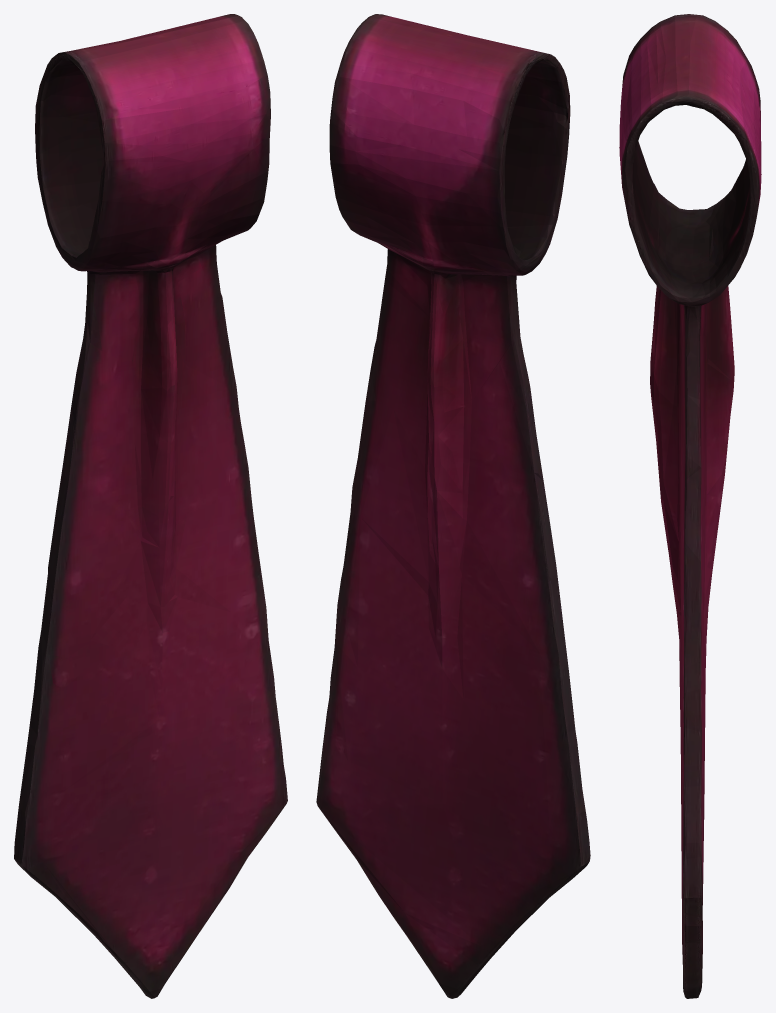
3 renders of one model, left to right at view 1: azimuth 30°, elevation 25°; view 2: azimuth 150°, elevation 25°; view 3: azimuth 270°, elevation 25°, orthographic.
Visible parts, largest first — view 1: geometry_0; view 2: geometry_0; view 3: geometry_0.
Part boxes in pixels (box(x1,y1,x2,y2)): geometry_0: box(14, 14, 287, 998); geometry_0: box(316, 14, 590, 998); geometry_0: box(619, 14, 761, 998).
Bounding box in the file's own units: 0.2891 × 0.9997 × 0.1361.
1 material, 1 textured.
